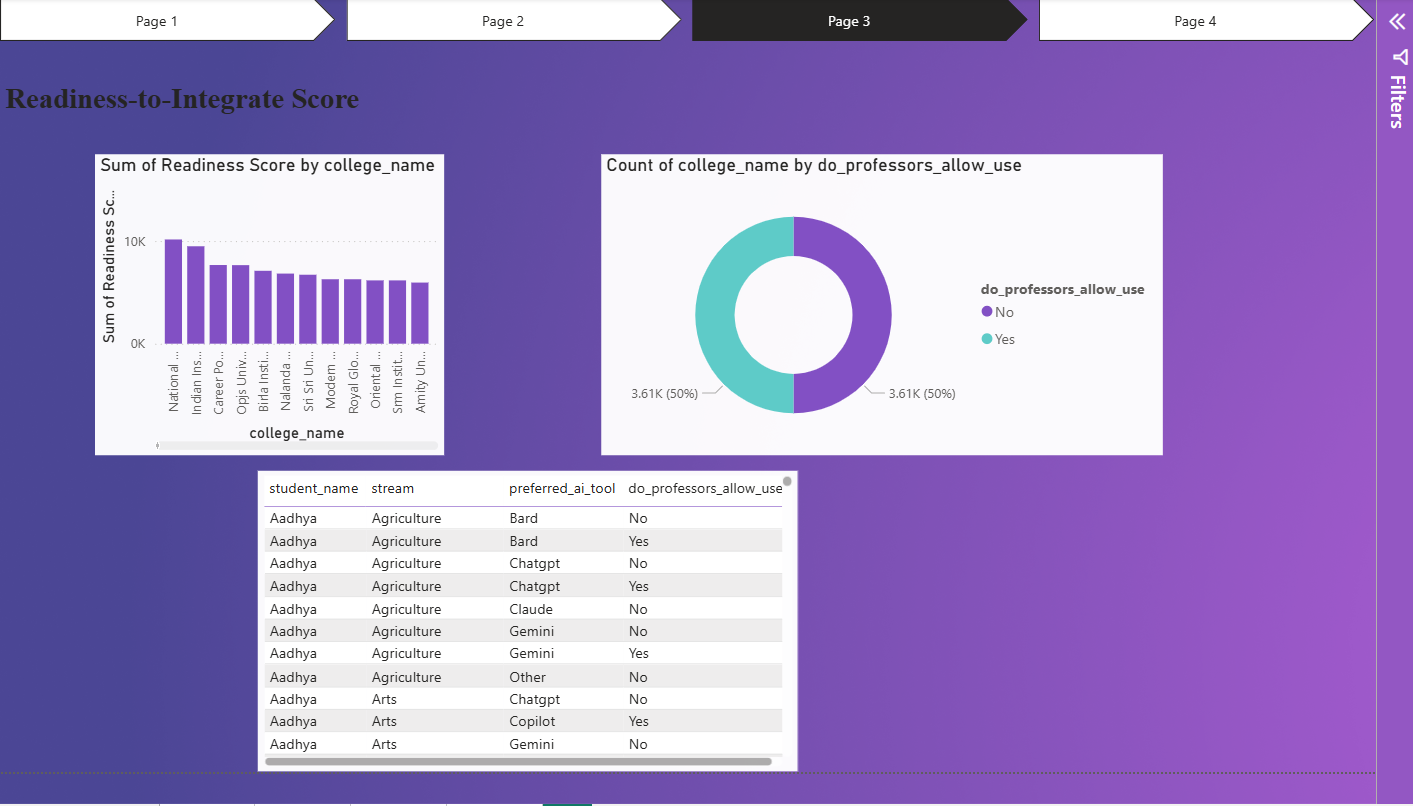

What the dashboard file says about the page in this screenshot:
{"tool":"powerbi","page":{"name":"Page 3","canvas":[1280,720],"ordinal":2},"visuals":[{"type":"clusteredColumnChart","fields":{"Category":["Student Ai tool usage.college_name"],"Y":["Data.Readiness Score"]},"box":[88.4,145.3,324.4,280.2],"z":0},{"type":"donutChart","fields":{"Category":["Data.do_professors_allow_use"],"Y":["Student Ai tool usage.college_name"]},"box":[559.3,145.3,522.1,280.2],"z":1000},{"type":"tableEx","fields":{"Values":["Student Ai tool usage.student_name","Student Ai tool usage.stream","Student Ai tool usage.preferred_ai_tool","Student Ai tool usage.do_professors_allow_use"]},"box":[239.5,439.5,502.3,280.2],"z":2000},{"type":"pageNavigator","box":[0,0,1280.2,40.7],"z":3000},{"type":"textbox","box":[0,72.9,375.7,48.6],"z":4000}]}

Visuals, with their boxes in screenshot pixels (x1, y1, x2, y2), scaled from the page's 1280x720 canvas onto the 1413x806 screenshot:
clusteredColumnChart - Student Ai tool usage.college_name x Data.Readiness Score: bbox=(98, 163, 456, 476)
donutChart - Data.do_professors_allow_use x Student Ai tool usage.college_name: bbox=(617, 163, 1194, 476)
tableEx - Student Ai tool usage.student_name x Student Ai tool usage.stream: bbox=(264, 492, 819, 805)
pageNavigator: bbox=(0, 0, 1412, 46)
textbox: bbox=(0, 82, 415, 136)
